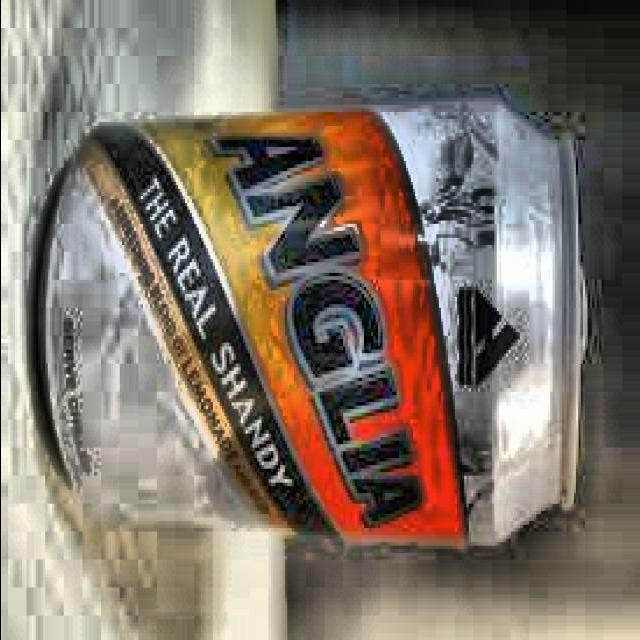litter: (17, 81, 600, 564)
